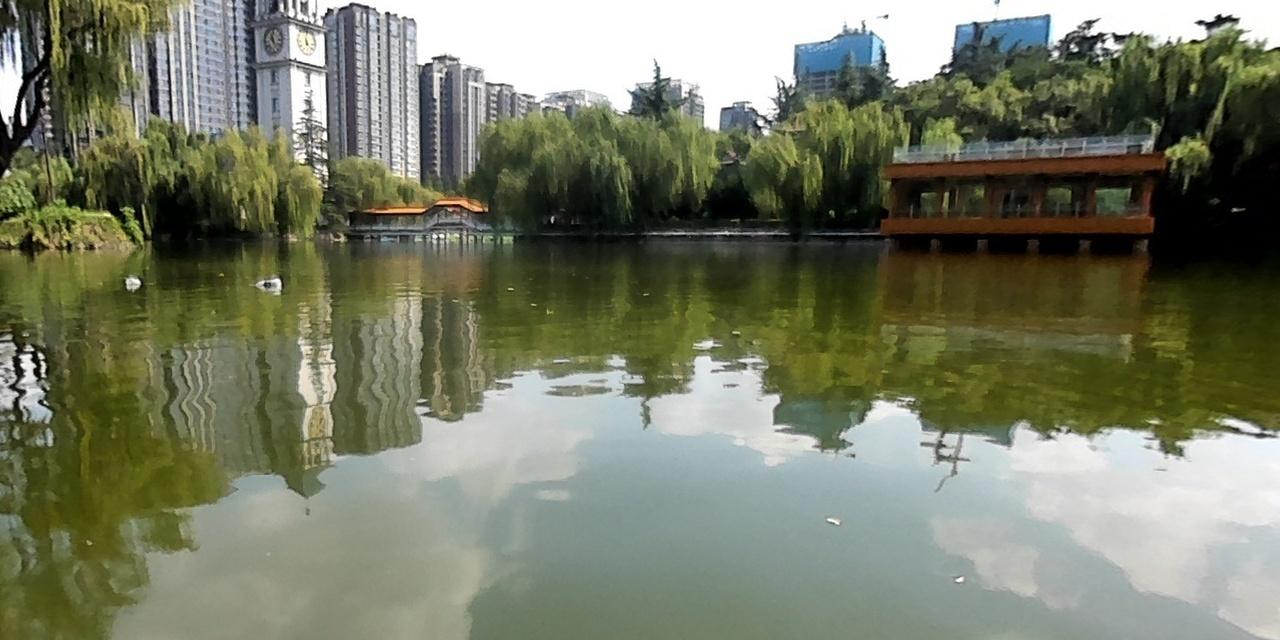bottle: (250, 276, 281, 289), (123, 273, 142, 288)
